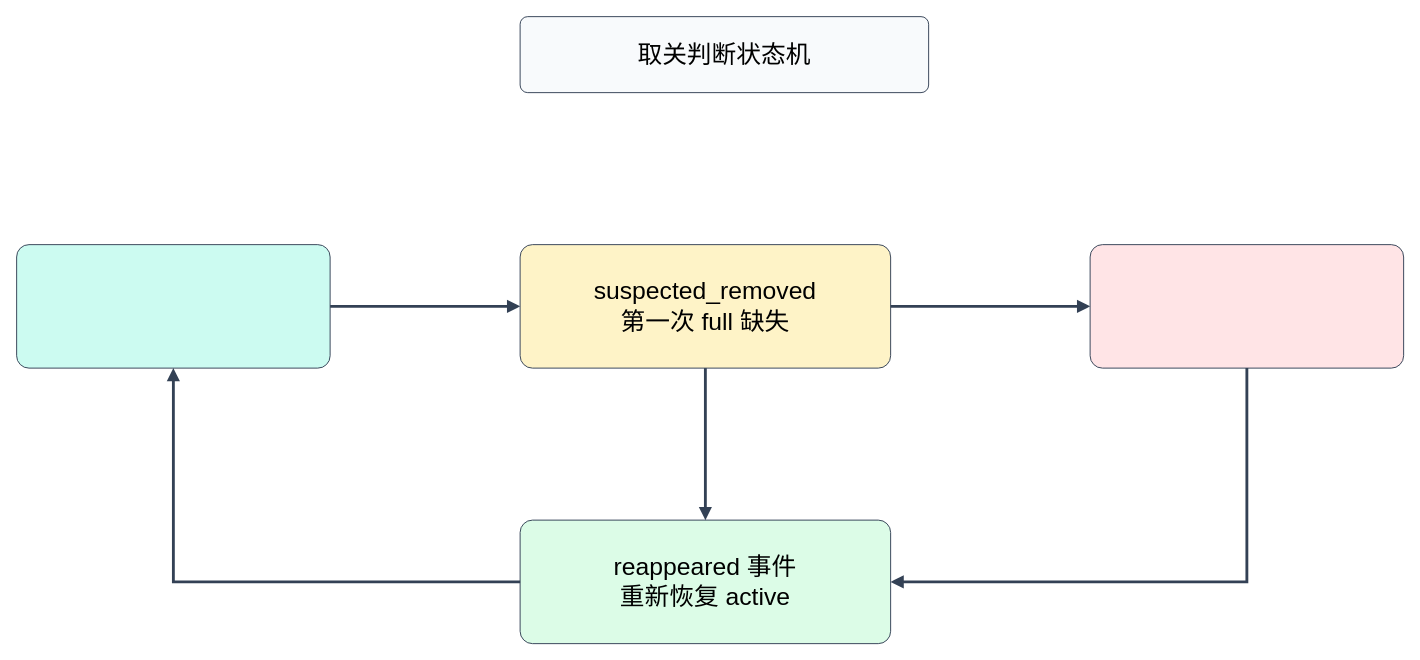
Image size: 1420x660. Some labels were removed from this diagram. Here are the shapes that lost their labels. From the top down, the centre of each, then its label:
At point 173,306: "active 扫描中出现".
At point 1246,306: "removed 第二次 full 缺失".
